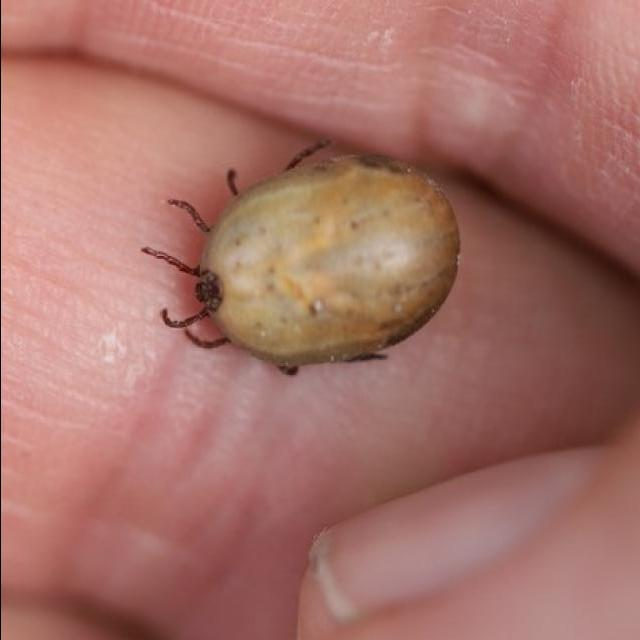Dermacentor Reticulatus-F-Fed: (141, 140, 458, 376)
